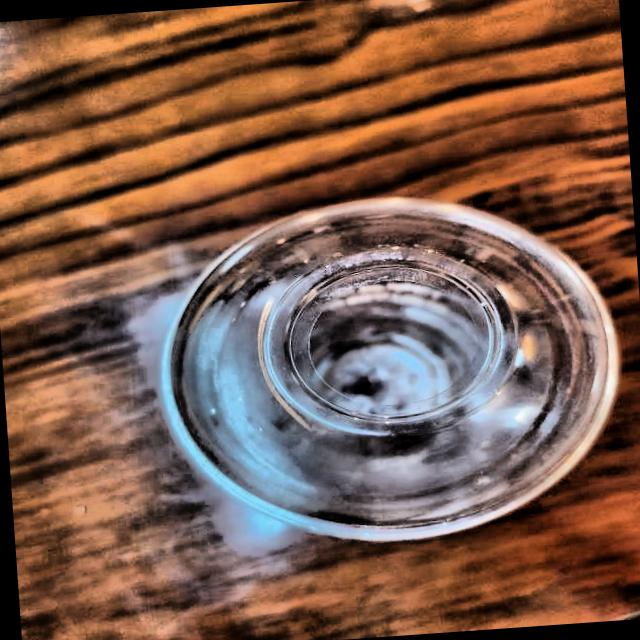plastic cup: (93, 160, 640, 595)
